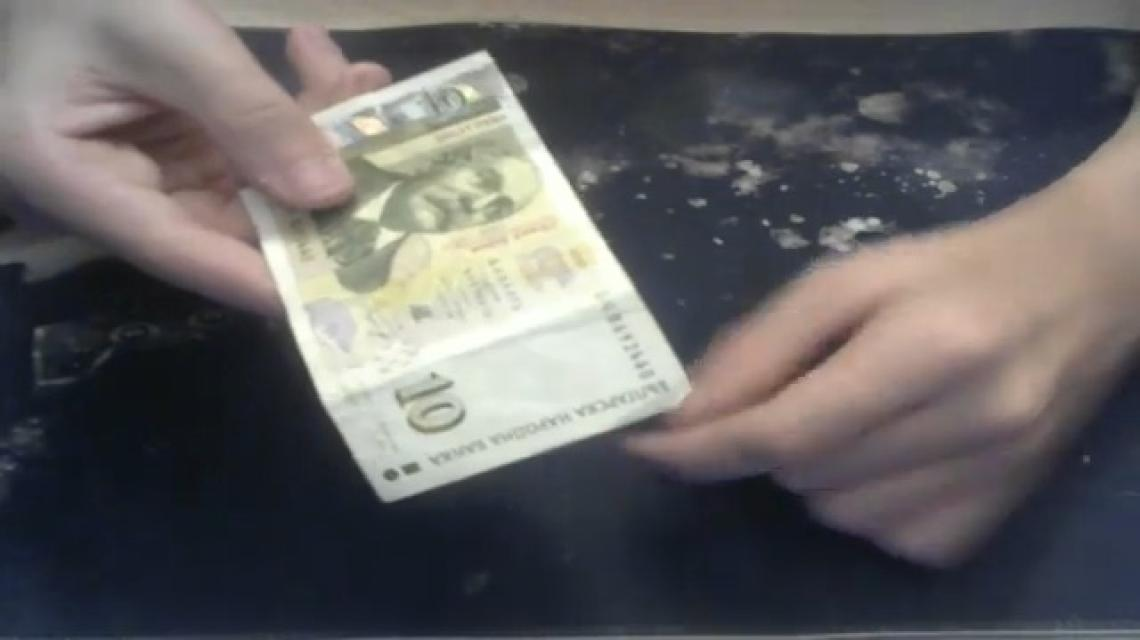10leva: (368, 355, 488, 450)
